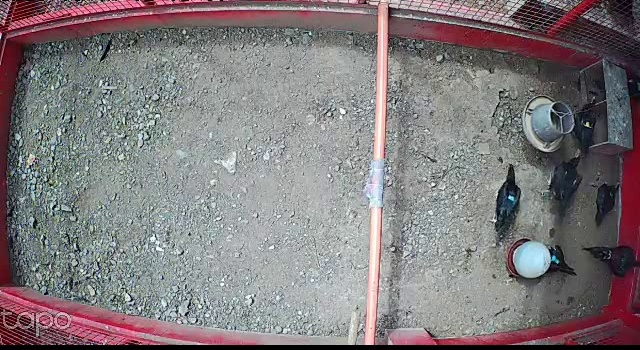Chicken: (538, 145, 588, 218), (486, 162, 524, 236), (569, 92, 599, 159), (592, 179, 621, 230), (543, 240, 579, 278)
Drinker: (505, 237, 551, 279)
Feeder: (519, 92, 576, 153)
Rooster: (583, 239, 640, 282)
Saddle_Color_Blue: (508, 194, 515, 201)
Saddle_Color_Yellow: (580, 118, 596, 131)
